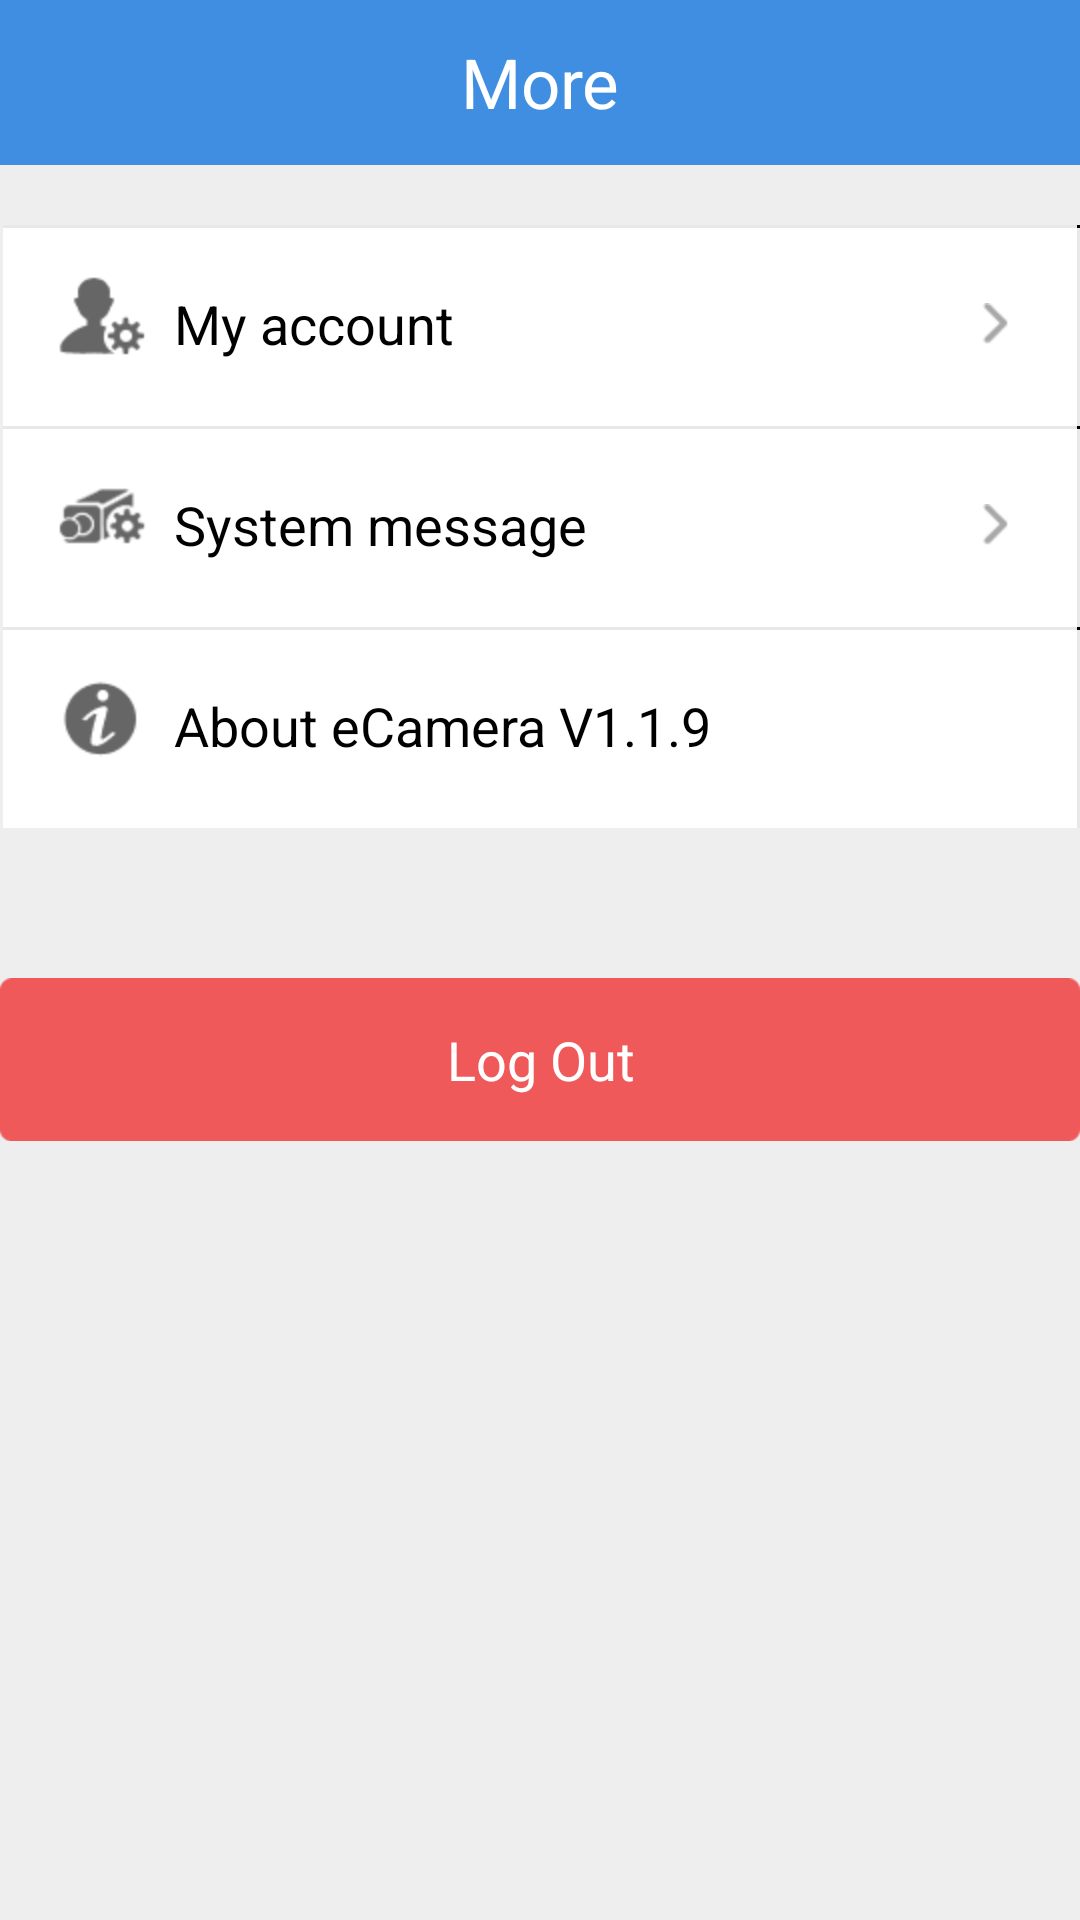

Where to tap for icons on this 1080px x 1920px app screen, as point (x, y):
forward: point (995, 323), point (995, 524)
manager: point (102, 316)
